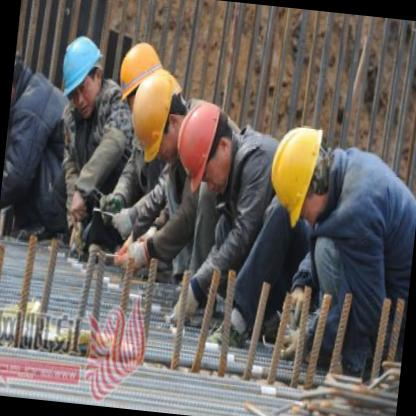helmet: (263, 119, 332, 221), (168, 98, 236, 190), (127, 65, 190, 164), (113, 35, 165, 136), (53, 29, 109, 117)
